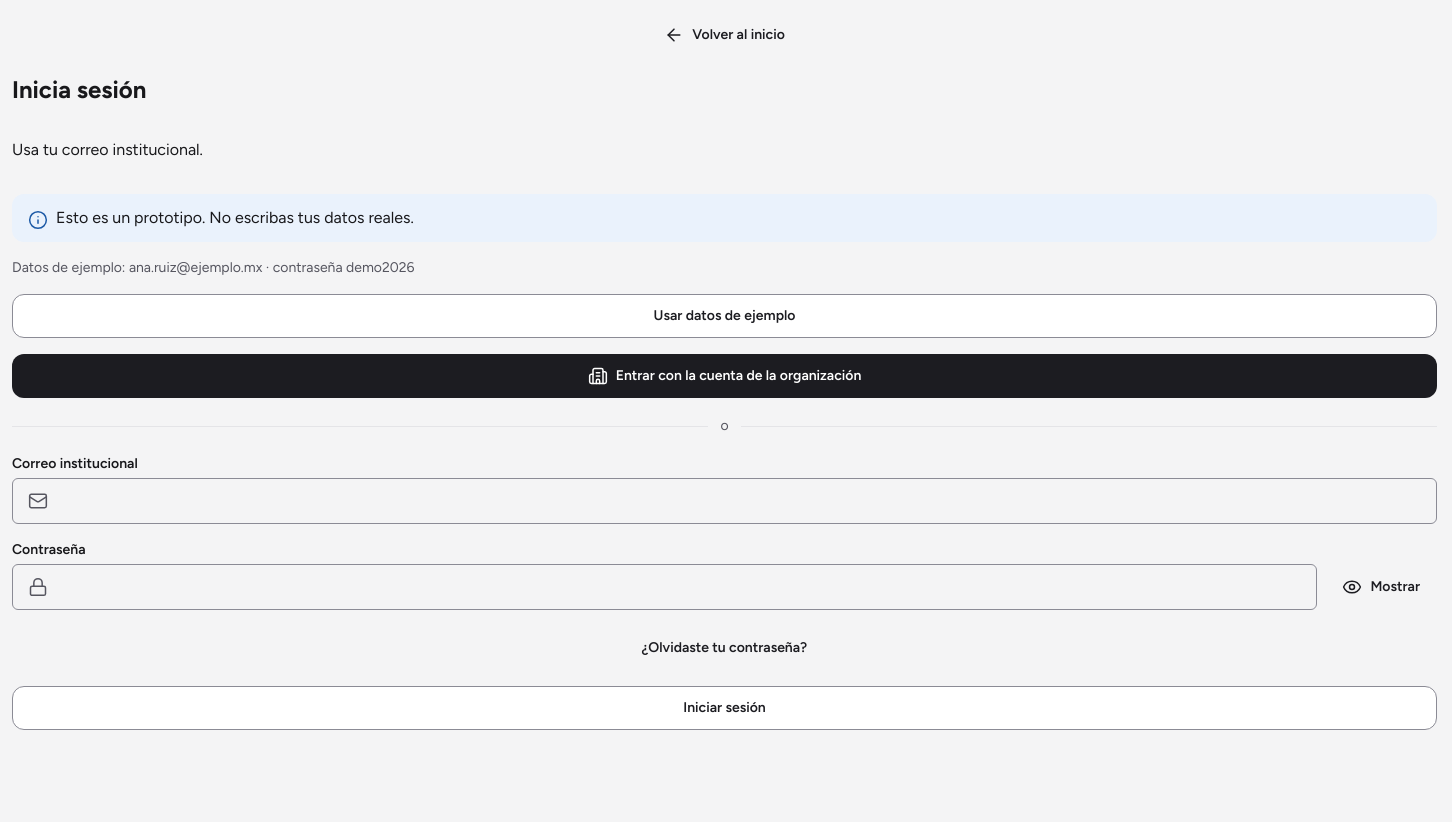
Test: A2 account picker state › opens from the SSO button and lists exactly the fetched accounts
Click the button "Entrar con la cuenta de la organización" at (724, 376), box [12, 354, 1437, 398]
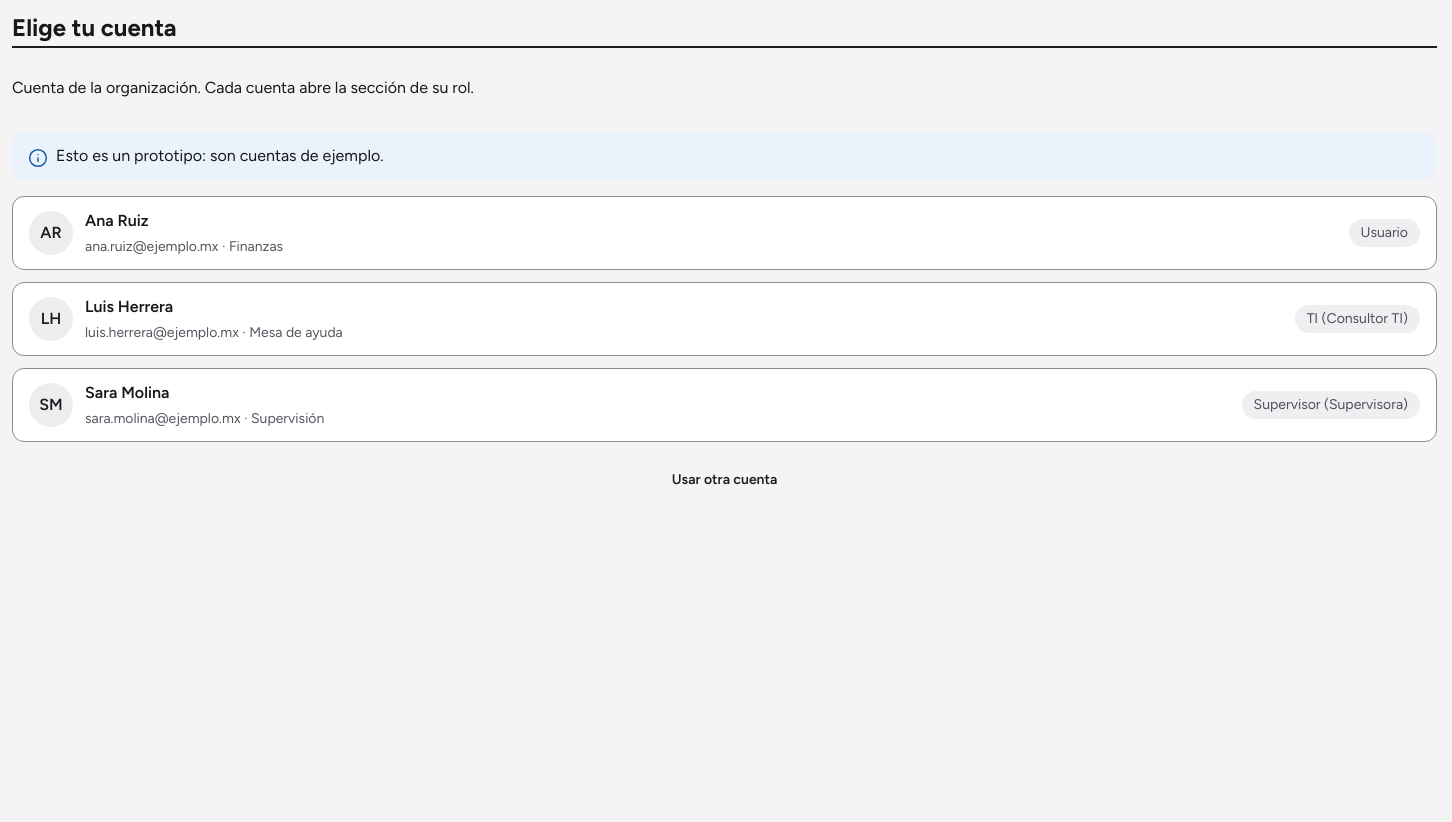
Expected: the text "Cuenta de la organización. Cada cuenta abre la sección de su rol." is shown, [12, 78, 474, 97]
Expected: the element showing "Esto es un prototipo: son cuentas de ejemplo." is shown, [12, 132, 1437, 180]
Expected: the number of list items is 3, [12, 196, 1437, 270]; [12, 282, 1437, 356]; [12, 368, 1437, 442]
